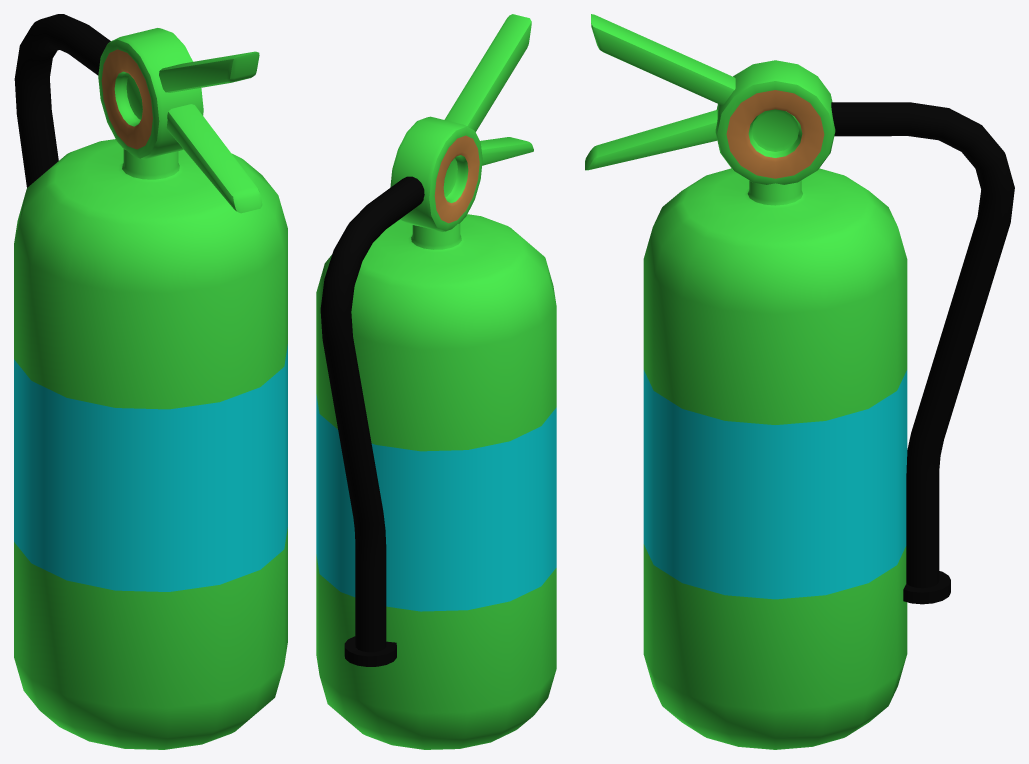
File: Fire Extinguisher.fbx
3 renders of one model, left to right at view 1: azimuth 30°, elevation 25°; view 2: azimuth 150°, elevation 25°; view 3: azimuth 270°, elevation 25°, orthographic. The views are drawn at different scales.
Visible parts, largest first — view 1: Fire Extinguisher; view 2: Fire Extinguisher; view 3: Fire Extinguisher.
Boxes of the visible parts, x1,y1,x2,y2 form: Fire Extinguisher: [14, 14, 287, 749]; Fire Extinguisher: [316, 14, 556, 749]; Fire Extinguisher: [585, 14, 1014, 749].
Bounding box in the file's own units: 42.51 × 125 × 69.38.
